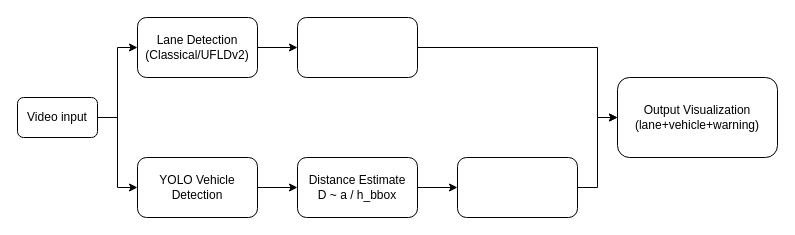
Some shapes in this 795 by 235 pixel diagram are drawn without their labels. The shapes that lost their labels are listed below. From the top down, each one's box as (x1, y1, x2, y2) in pixels, then its label:
(296, 16, 418, 78): Lane Visualization
(456, 156, 578, 218): Warning Decision Module
